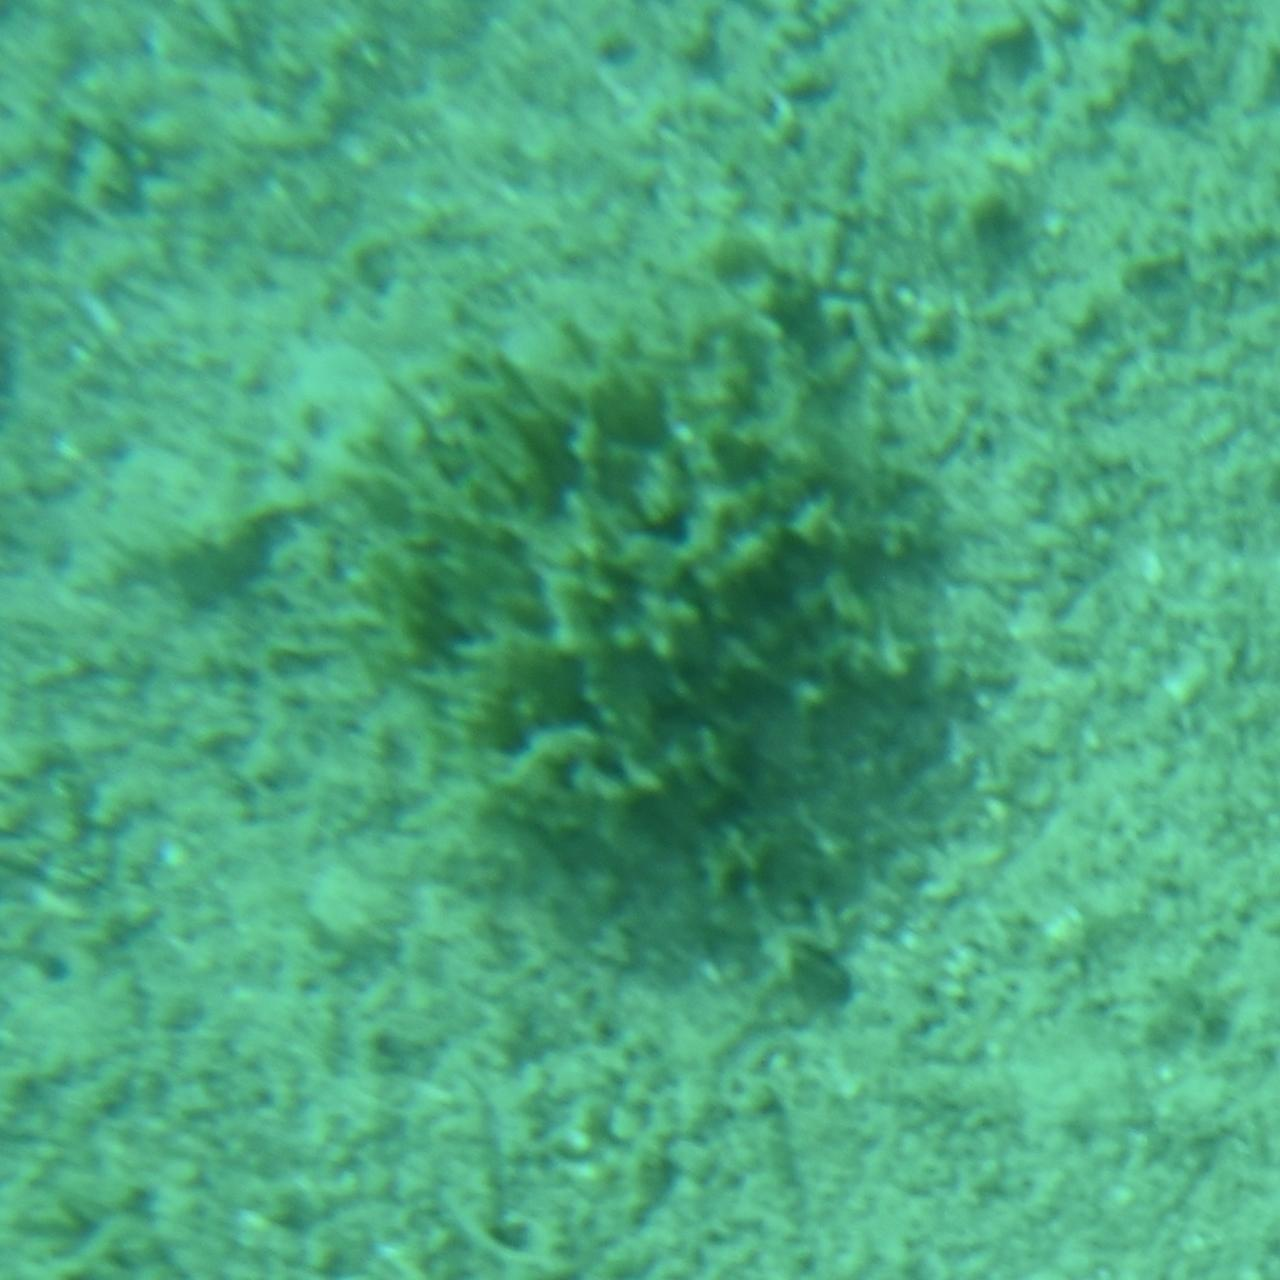Phaeophyceae -cfr Cystoseira-: (333, 231, 947, 982)
